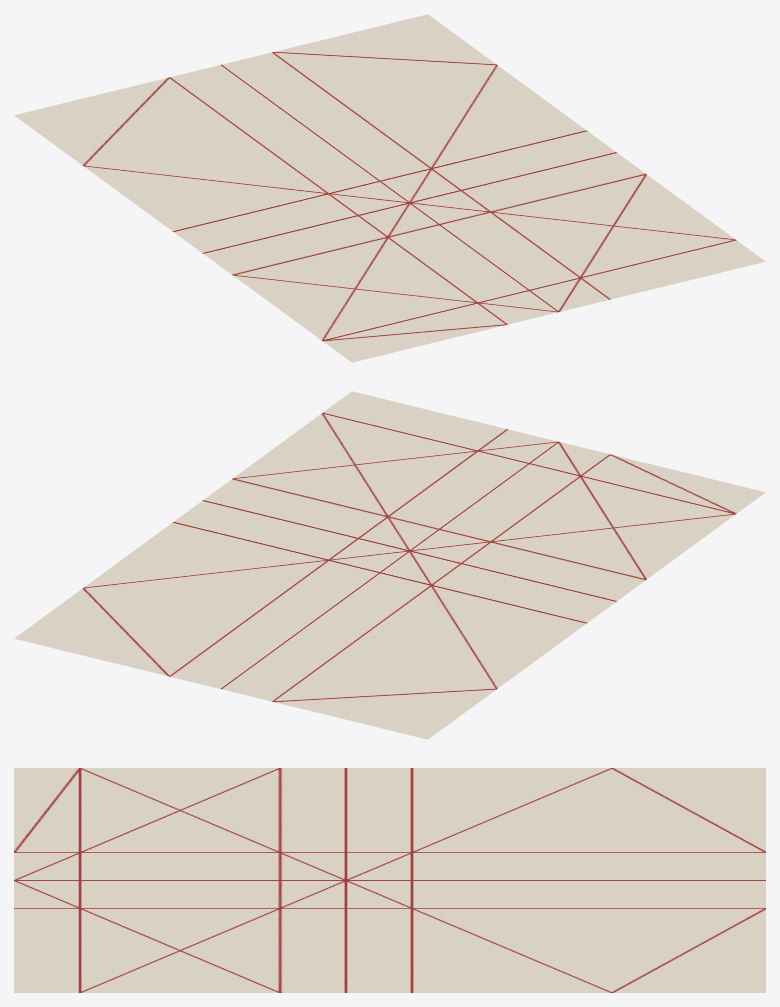
The model's file is paper_plane_coarse.obj.
3 views of the same model, one above another, from view 1: azimuth 30°, elevation 25°; view 2: azimuth 150°, elevation 25°; view 3: azimuth 270°, elevation 25° (orthographic). The views are drawn at different scales.
Size of the model in its own units: 2 by 0 by 2.83.
Materials: 1 (1 with a texture image).
